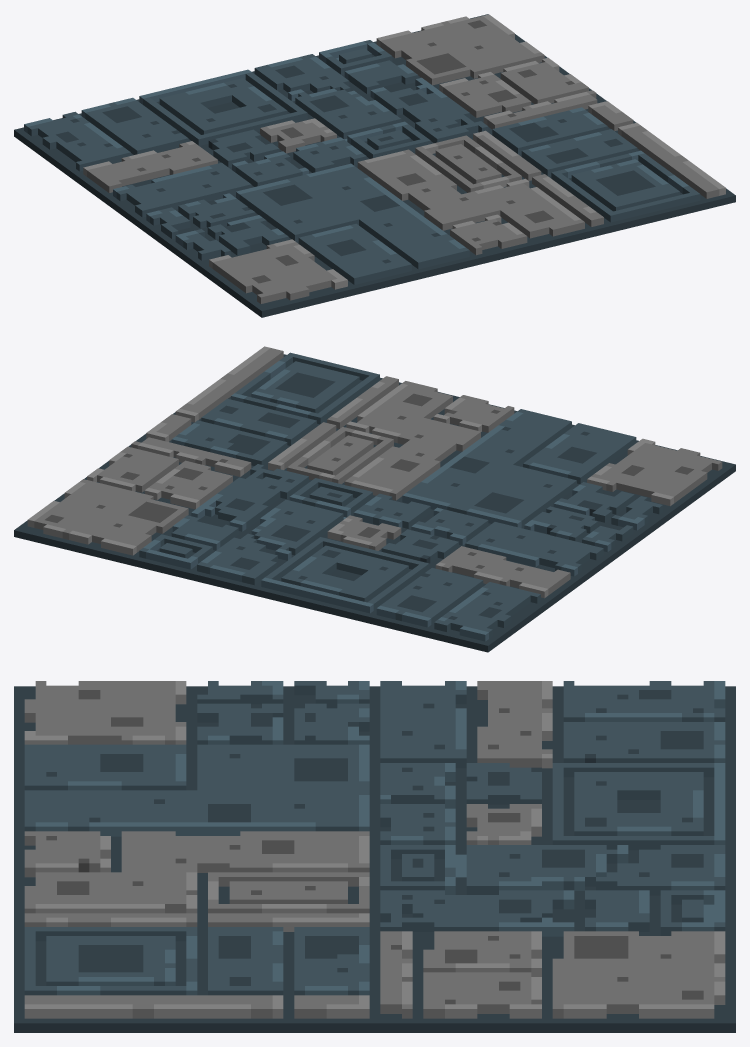
File: wall_E_solo_piso_3.obj
3 renders of one model, top to bottom at view 1: azimuth 30°, elevation 25°; view 2: azimuth 150°, elevation 25°; view 3: azimuth 270°, elevation 25°, orthographic. The views are drawn at different scales.
Size of the model in its own units: 74 by 2 by 67.
Materials: 1 (1 with a texture image).
